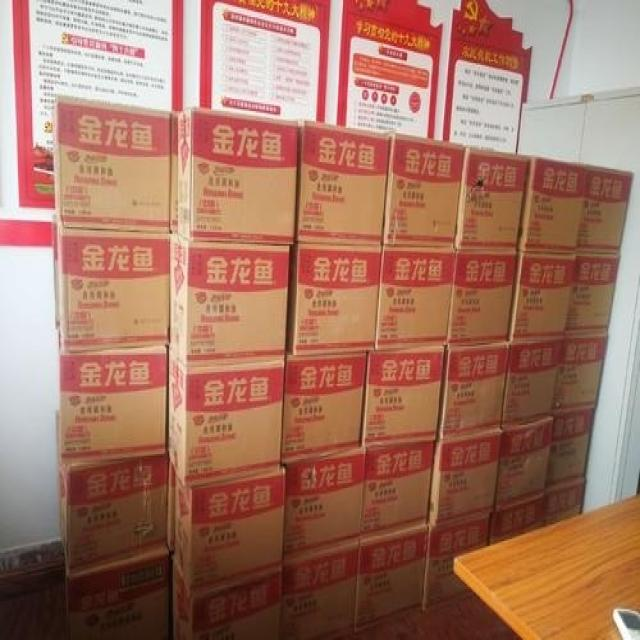box: (165, 350, 284, 492), (168, 230, 291, 367), (177, 108, 297, 244), (55, 212, 170, 353), (52, 96, 170, 232), (173, 469, 283, 596), (59, 456, 168, 575), (59, 350, 165, 463), (296, 123, 389, 242), (285, 244, 381, 357), (282, 352, 369, 469), (282, 447, 366, 565), (61, 548, 170, 638), (383, 133, 467, 247), (170, 560, 280, 640), (375, 244, 456, 350), (362, 348, 448, 445), (355, 524, 429, 635), (453, 147, 530, 249), (279, 543, 358, 640), (361, 440, 436, 541), (435, 341, 509, 440), (419, 514, 490, 614), (445, 249, 517, 346), (429, 428, 503, 522), (516, 157, 586, 254), (490, 413, 553, 517), (508, 253, 576, 343), (500, 338, 564, 428), (576, 166, 636, 253), (563, 253, 621, 333), (552, 329, 607, 411), (545, 404, 595, 490), (486, 492, 549, 548), (548, 478, 586, 526), (165, 457, 177, 560), (169, 114, 178, 232)
